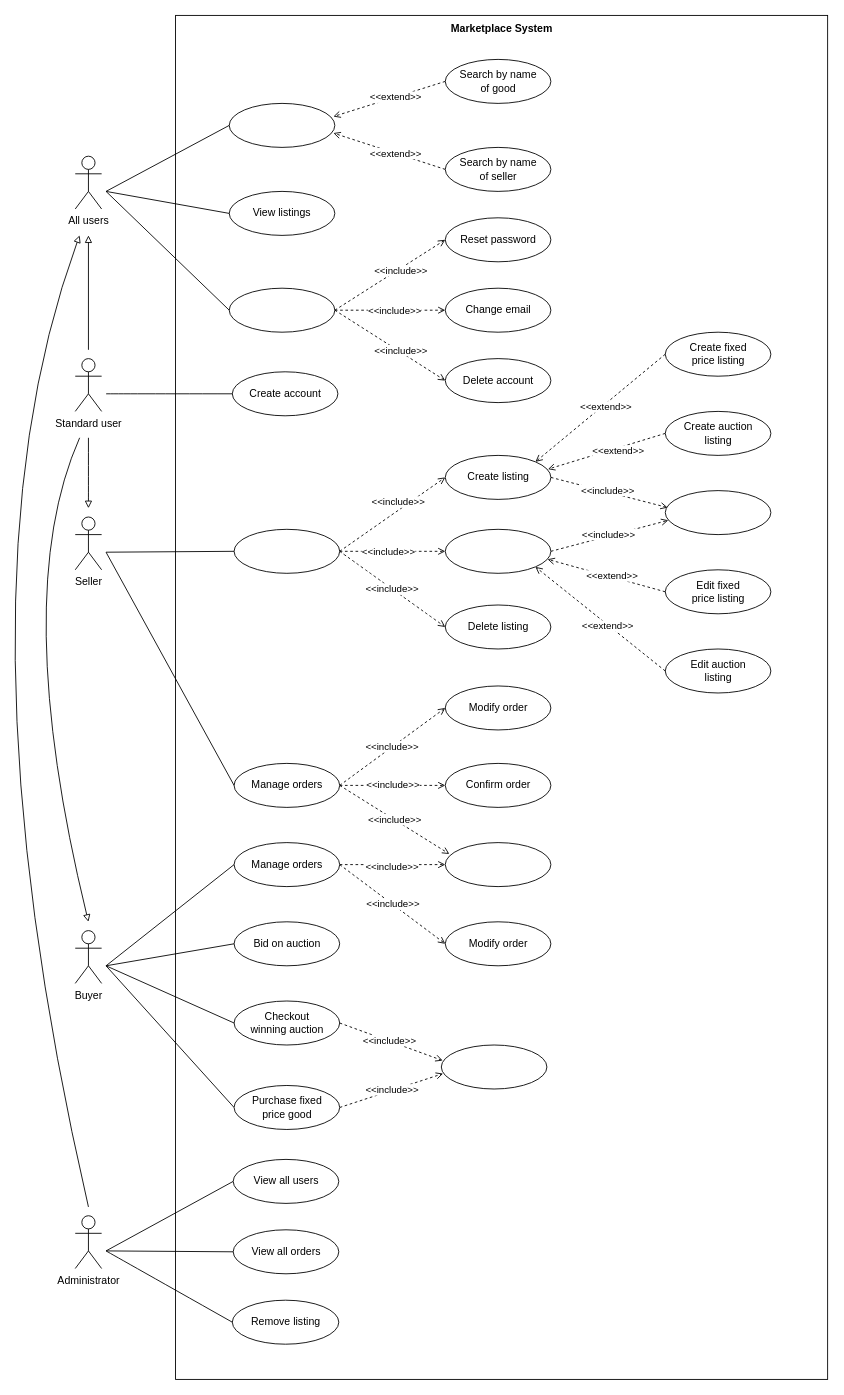
Some shapes in this 844 by 1395 pixel diagram are drawn without their labels. Here are the shapes that lost their labels. From the top down, the centre of each, then its label:
At point (281, 125): "Search listings".
At point (281, 309): "Manage account".
At point (717, 512): "Add co-sellers".
At point (286, 550): "Manage listings".
At point (497, 550): "Edit listing".
At point (497, 864): "Cancel order".
At point (493, 1066): "Enter checkout details".
